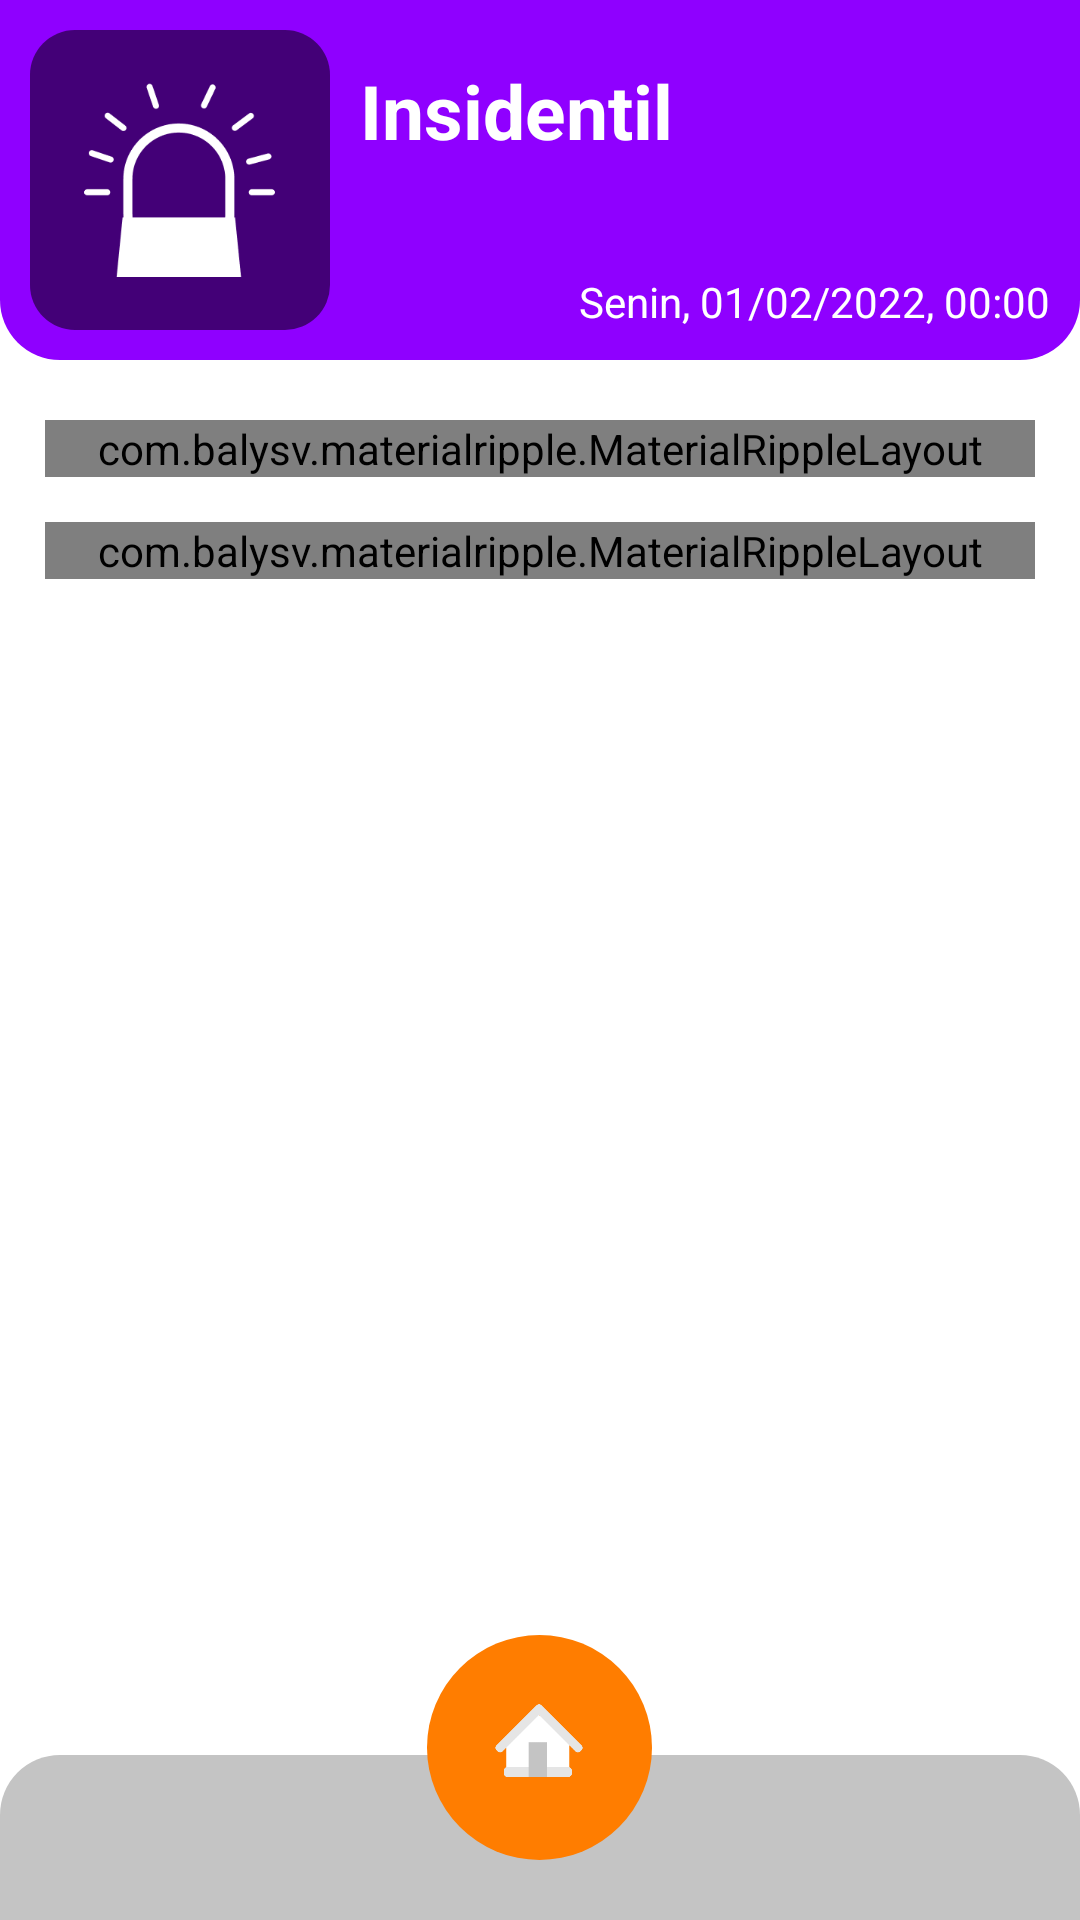

Locate icon controls on the screen. Image size 1080 × 1920, boxes as (x1, y1, x2, y2).
home: (495, 1704, 583, 1777)
insedentil: (84, 83, 275, 277)
